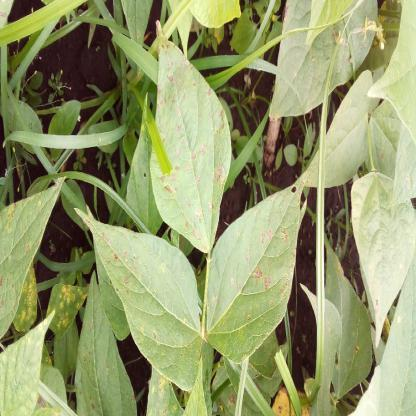Beans_Angular_LeafSpot: (72, 206, 206, 385), (146, 19, 235, 243), (206, 175, 305, 368), (0, 177, 75, 339)
